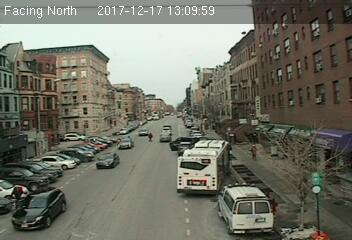bus: (176, 138, 234, 197)
car: (11, 186, 67, 231), (93, 152, 121, 169), (118, 137, 134, 150)
police: (216, 182, 277, 236)
